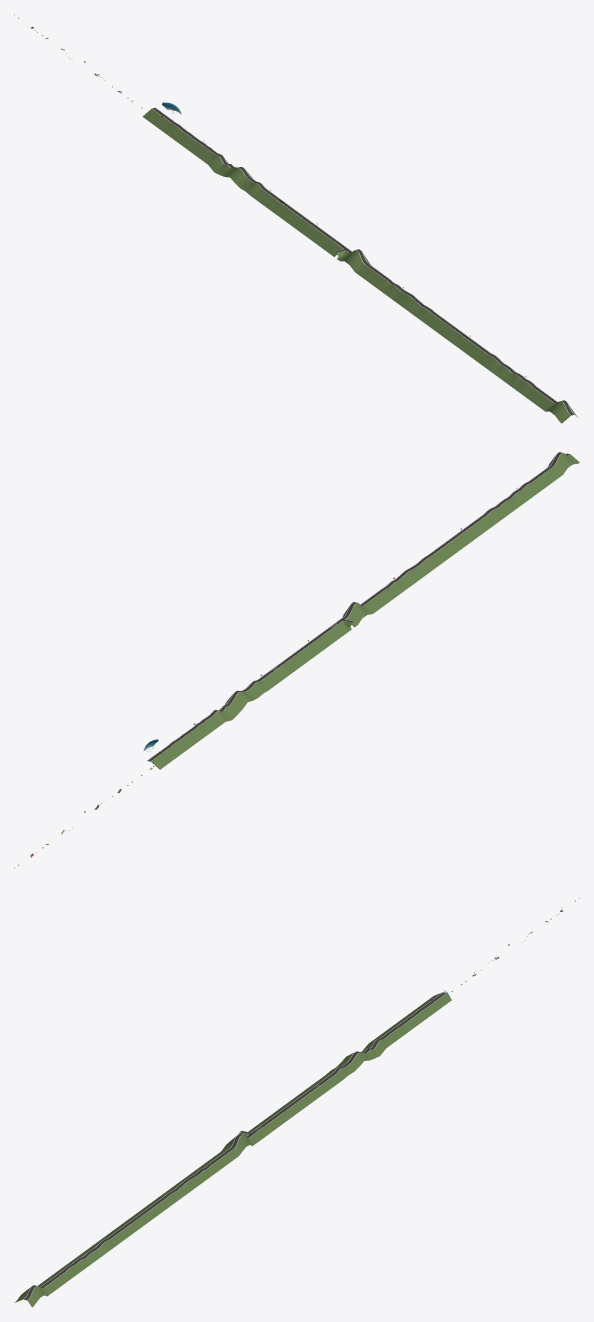
File: level_event_4.glb
The picture shows the model from 3 angles, top to bottom: view 1: azimuth 30°, elevation 25°; view 2: azimuth 150°, elevation 25°; view 3: azimuth 330°, elevation 25°; orthographic projection.
Visible parts, largest first — view 1: road_normal_14, road_easy_05, road_easy_04, road_easy_03, road_easy_00, road_easy_00 (1); view 2: road_normal_14, road_easy_05, road_easy_04, road_easy_00 (1), road_easy_00, road_easy_03; view 3: road_normal_14, road_easy_05, road_easy_00, road_easy_00 (1), road_easy_04, road_easy_03.
Part boxes in pixels (box(x1,y1,x2,y2)): road_normal_14: box(204, 152, 266, 197); road_easy_05: box(475, 351, 537, 396); road_easy_04: box(375, 278, 437, 323); road_easy_03: box(154, 116, 216, 161); road_easy_00: box(273, 203, 335, 248); road_easy_00 (1): box(425, 314, 487, 359); road_normal_14: box(208, 679, 271, 724); road_easy_05: box(480, 480, 542, 525); road_easy_04: box(380, 553, 442, 599); road_easy_00 (1): box(430, 517, 492, 562); road_easy_00: box(278, 628, 340, 673); road_easy_03: box(158, 716, 220, 761); road_normal_14: box(323, 1037, 390, 1081); road_easy_05: box(51, 1236, 118, 1280); road_easy_00: box(254, 1088, 320, 1132); road_easy_00 (1): box(101, 1199, 168, 1243); road_easy_04: box(151, 1162, 218, 1206); road_easy_03: box(373, 1001, 440, 1044).
Size of the model in its own units: 58.1 by 44.98 by 2164.
Materials: 7 (7 with a texture image).
